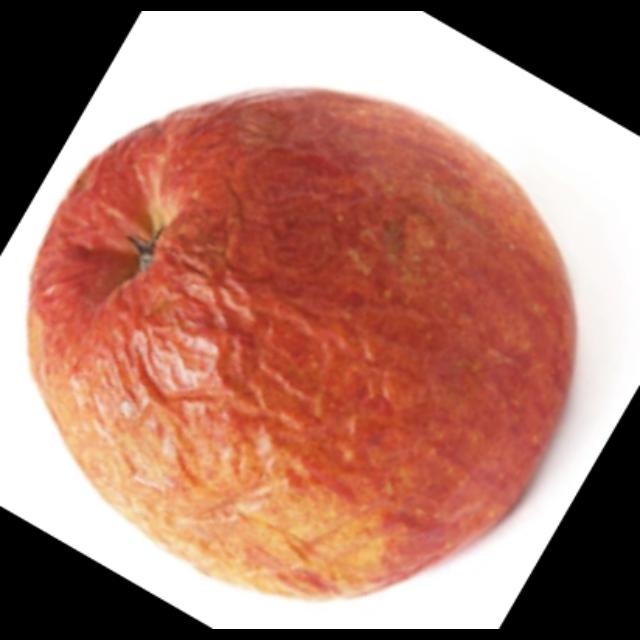Apel Tidak Segar: (23, 82, 583, 602)
